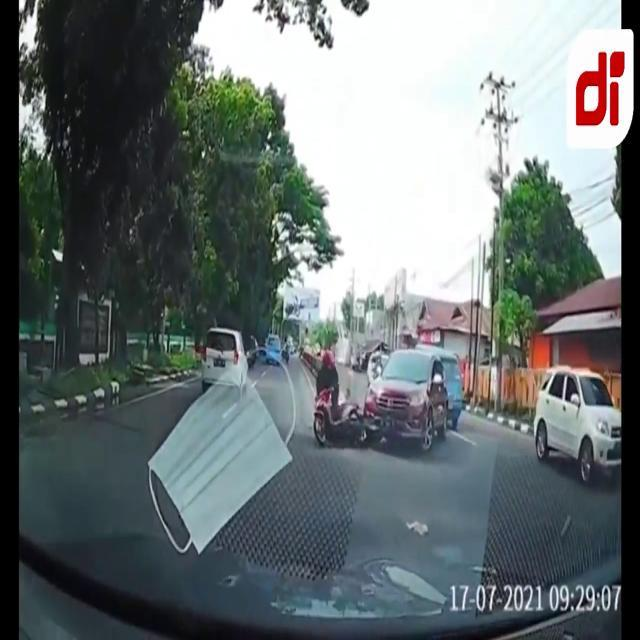multiple_accident: (319, 334, 449, 477)
normal: (181, 327, 293, 410), (534, 374, 619, 476), (256, 336, 304, 379), (439, 446, 446, 453)
